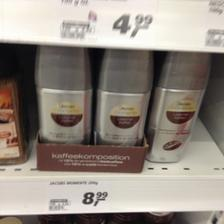Kaffee: (150, 48, 210, 163), (32, 44, 90, 142), (94, 48, 149, 144)
